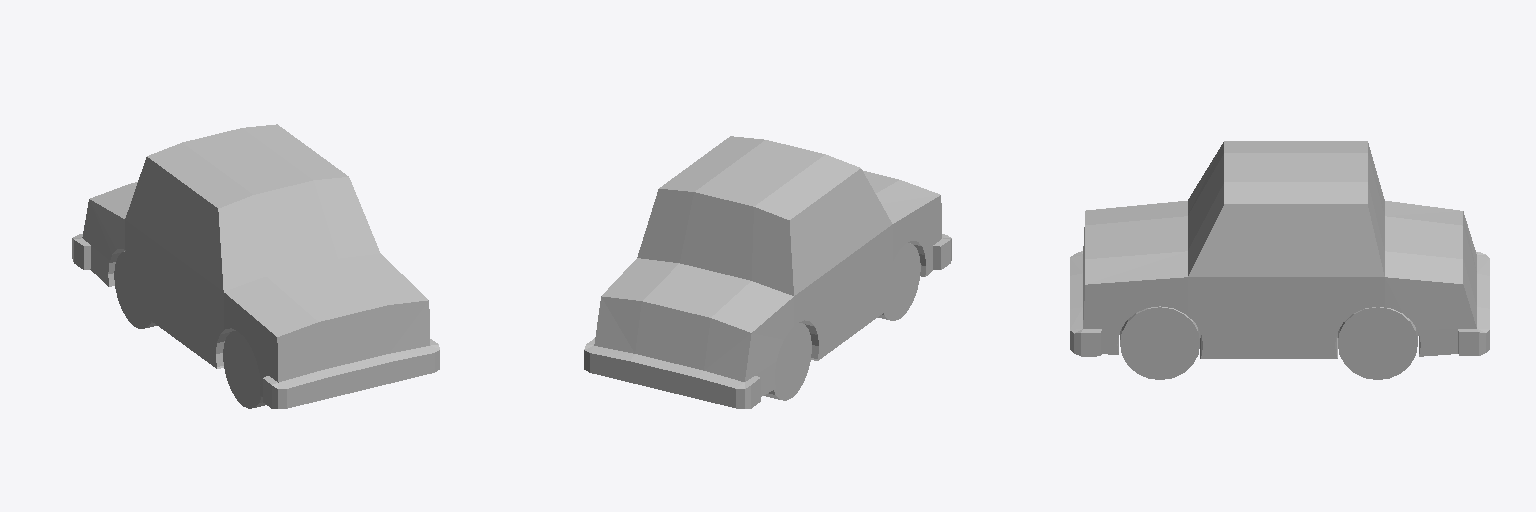
Rendered from cra_baa.obj.
3 views of the same model, side by side, from view 1: azimuth 30°, elevation 25°; view 2: azimuth 150°, elevation 25°; view 3: azimuth 270°, elevation 25° (orthographic).
Parts seen in each view (by area): view 1: City.Car_CityCar.mat_0; view 2: City.Car_CityCar.mat_0; view 3: City.Car_CityCar.mat_0.
Part boxes in pixels (left/top/right/bottom): City.Car_CityCar.mat_0: left=72, top=124, right=439, bottom=408; City.Car_CityCar.mat_0: left=584, top=136, right=951, bottom=408; City.Car_CityCar.mat_0: left=1070, top=141, right=1489, bottom=379.
Size of the model in its own units: 0.4376 by 0.4442 by 0.954.